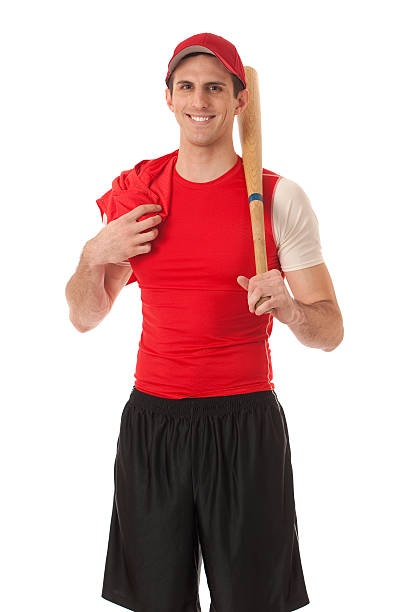bita: (233, 59, 280, 305)
